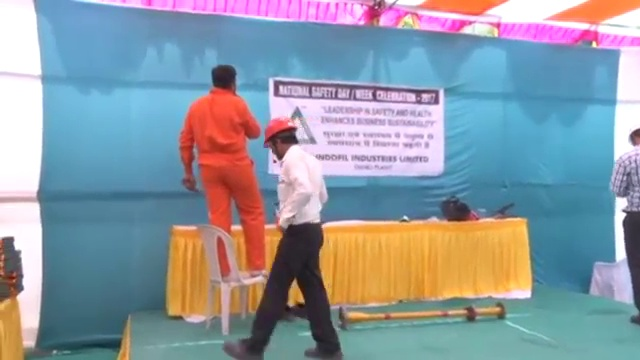helmet: (263, 117, 298, 146), (628, 118, 640, 142)
helmet_off: (209, 62, 236, 94)
helmet_on: (262, 116, 300, 166), (626, 117, 640, 153)
person: (226, 115, 341, 360), (178, 62, 266, 277), (607, 116, 640, 325)
